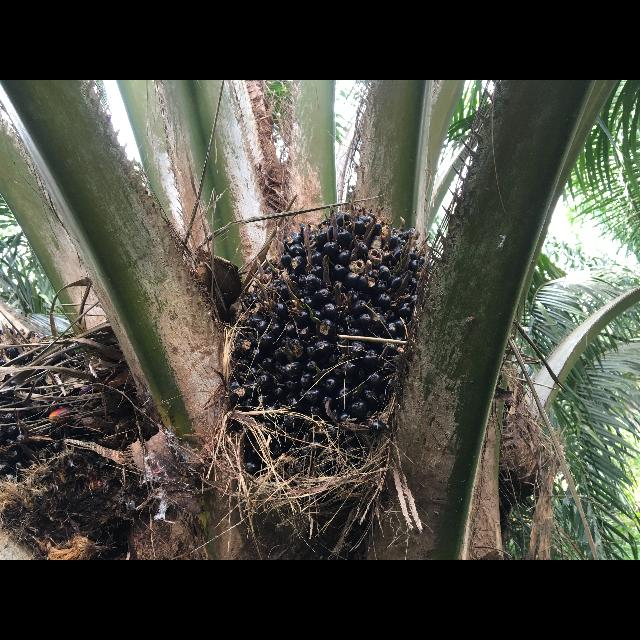Unripe: (221, 210, 427, 467)
